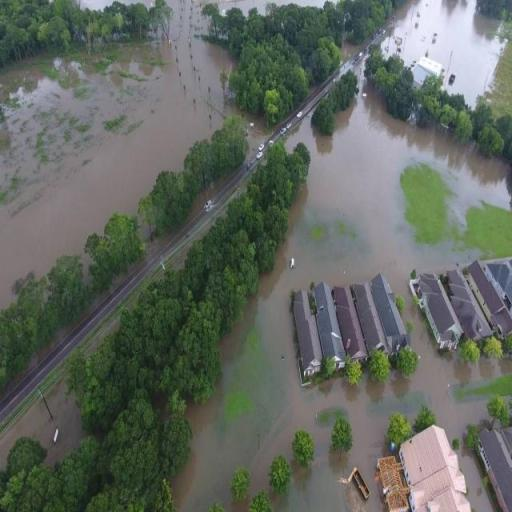flood: (169, 55, 512, 512), (0, 0, 238, 308), (382, 0, 512, 117), (193, 0, 326, 13), (287, 120, 333, 154), (80, 0, 153, 10), (341, 41, 360, 62)
house: (397, 425, 471, 512), (418, 272, 464, 350), (465, 258, 512, 334), (447, 268, 493, 339), (314, 281, 347, 372), (478, 426, 512, 512), (292, 288, 323, 378), (372, 272, 409, 347), (334, 283, 368, 361), (353, 280, 388, 355), (412, 56, 443, 80)
